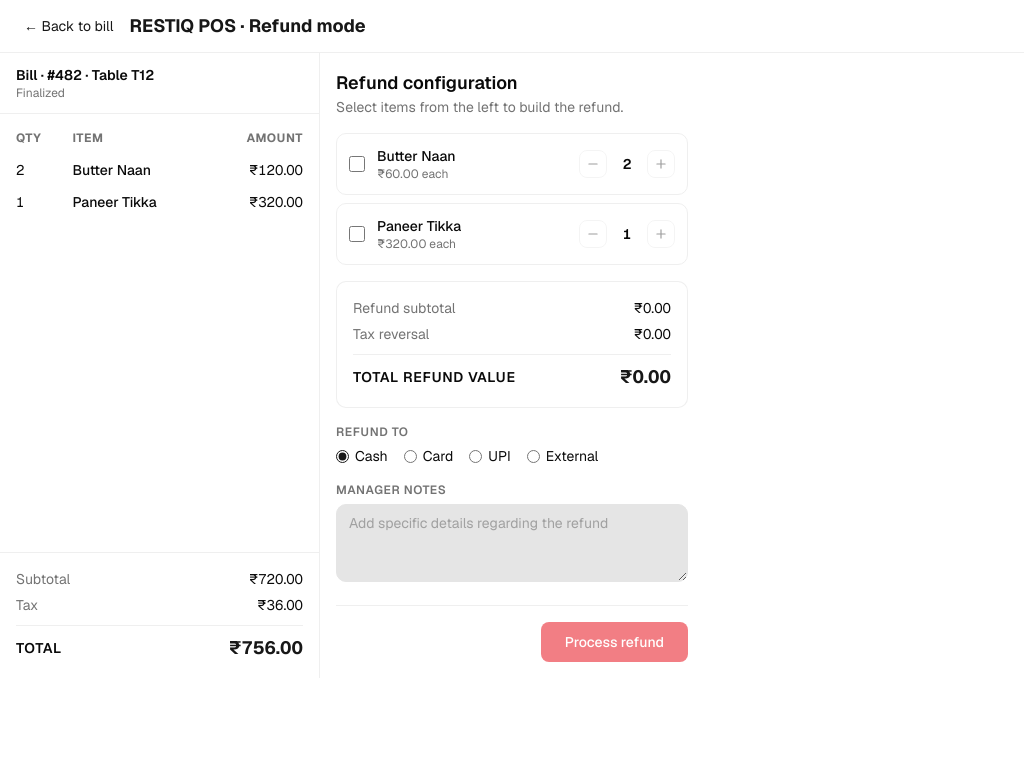
Scenario: RefundView - selecting items to refund › computes the correct partial refund amount as items/quantities are selected
Expected: the element with test id "refund-config-panel" is shown, [320, 53, 704, 678]
Expected: the text with test id "refund-total-value" reads "₹0.00", [620, 365, 671, 388]
Click the checkbox with test id "refund-line-select-line-naan" at (357, 164), box [349, 156, 365, 172]
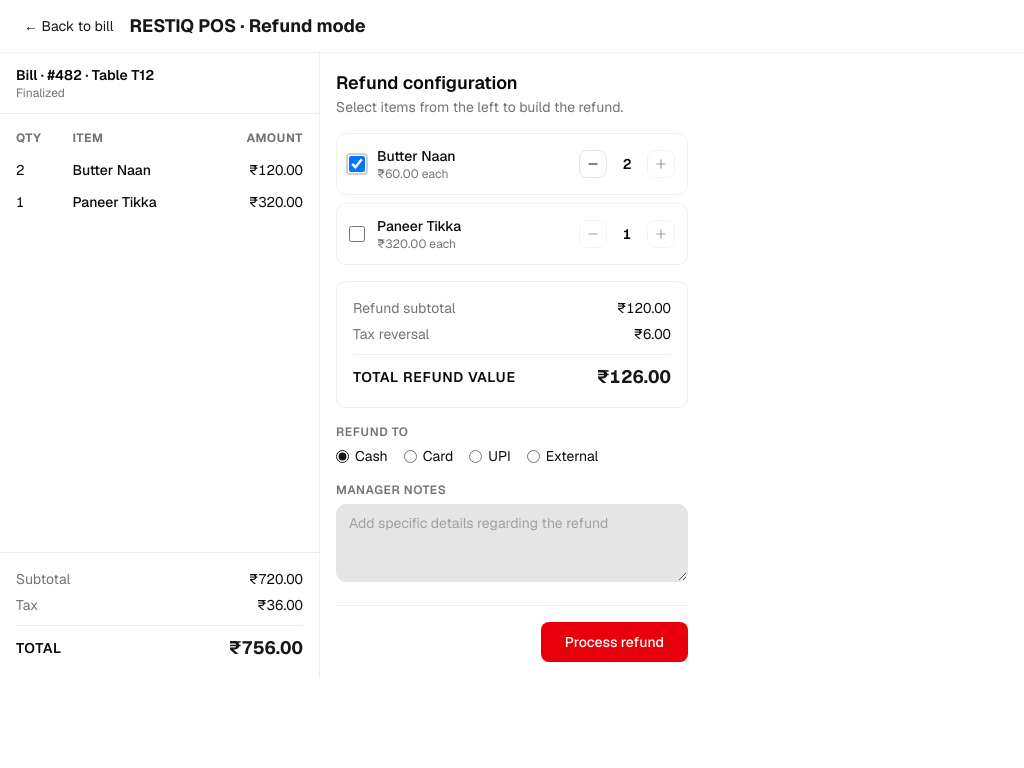
Expected: the text with test id "refund-line-qty-line-naan" reads "2", [623, 155, 631, 173]
Expected: the text with test id "refund-total-value" reads "₹126.00", [597, 365, 671, 388]
Reduce to a partial quantity of 1: Rs60 subtotal, Rs3 tax, Rs63 total.
Click the button with test id "refund-line-decrement-line-naan" at (593, 164), box [579, 150, 607, 178]
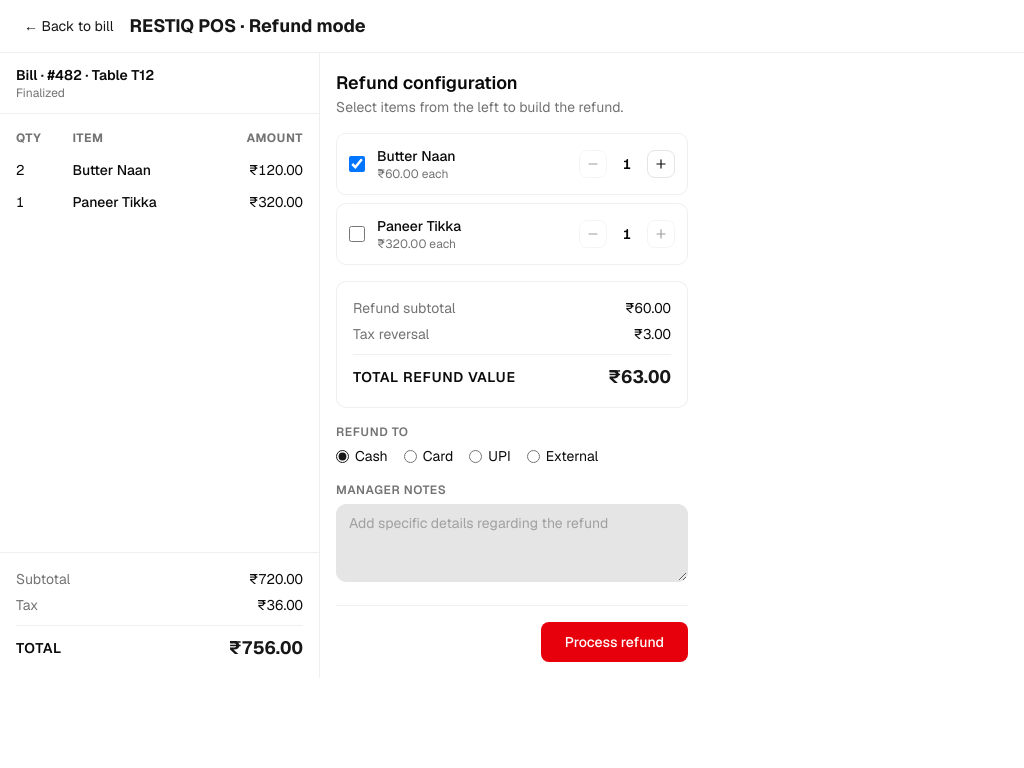
Expected: the text with test id "refund-line-qty-line-naan" reads "1", [623, 155, 631, 173]
Expected: the text with test id "refund-total-value" reads "₹63.00", [608, 365, 671, 388]
Click the checkbox with test id "refund-line-select-line-paneer" at (357, 234), box [349, 226, 365, 242]
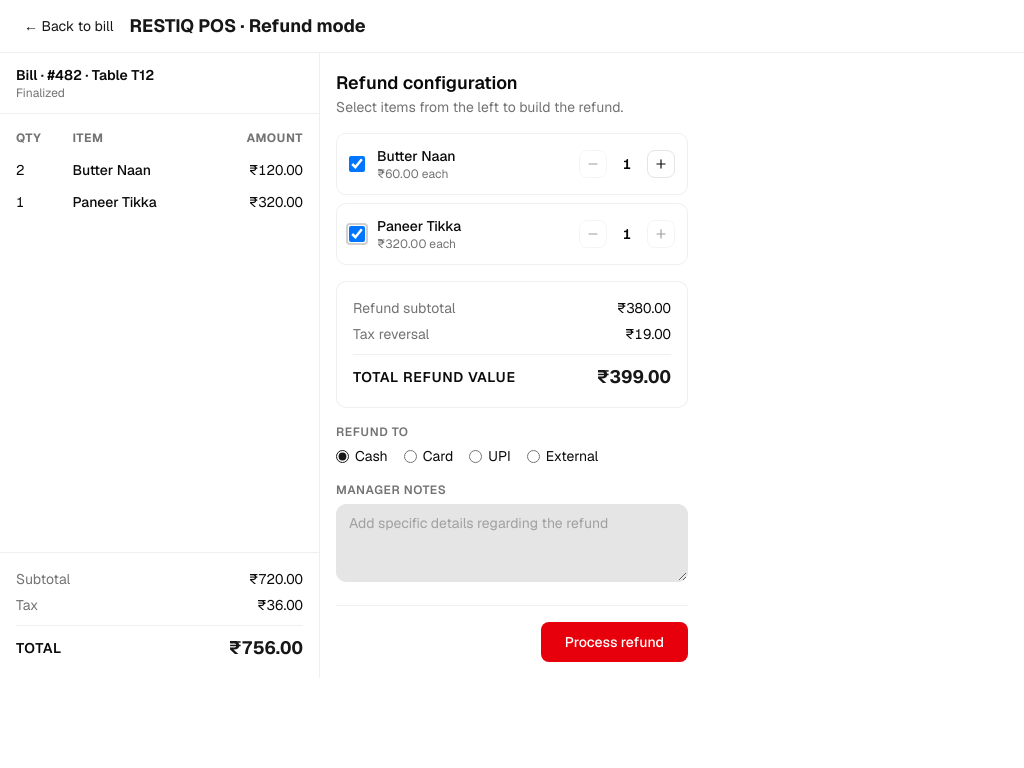
Expected: the text with test id "refund-total-value" reads "₹399.00", [597, 365, 671, 388]
